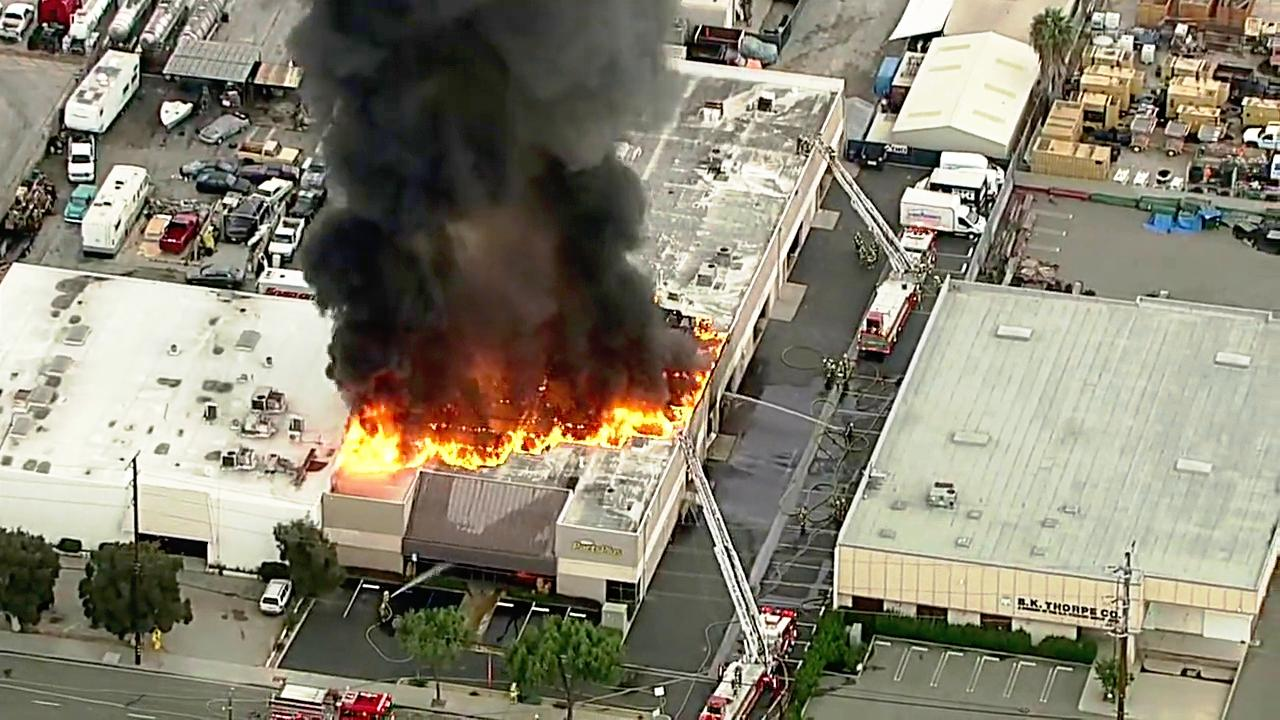fire: (407, 419, 577, 475), (594, 412, 682, 460), (350, 420, 418, 475)
smoke: (335, 15, 611, 182), (514, 150, 691, 400), (317, 199, 446, 386)
